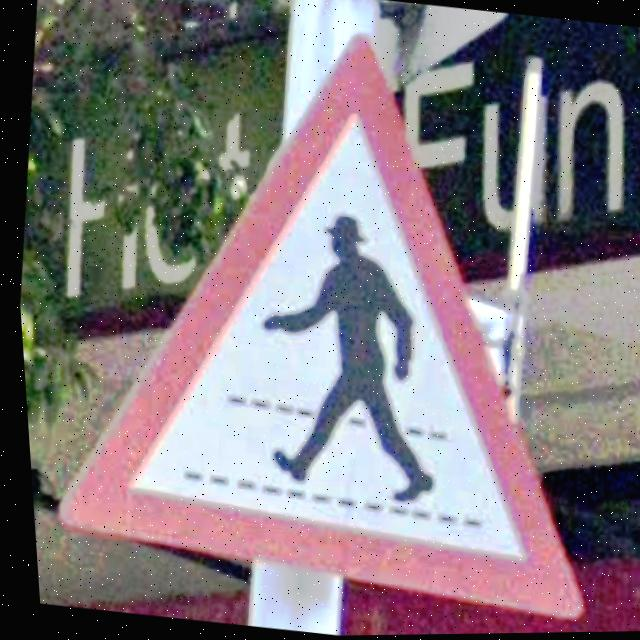pedestriancross: (52, 35, 576, 623)
